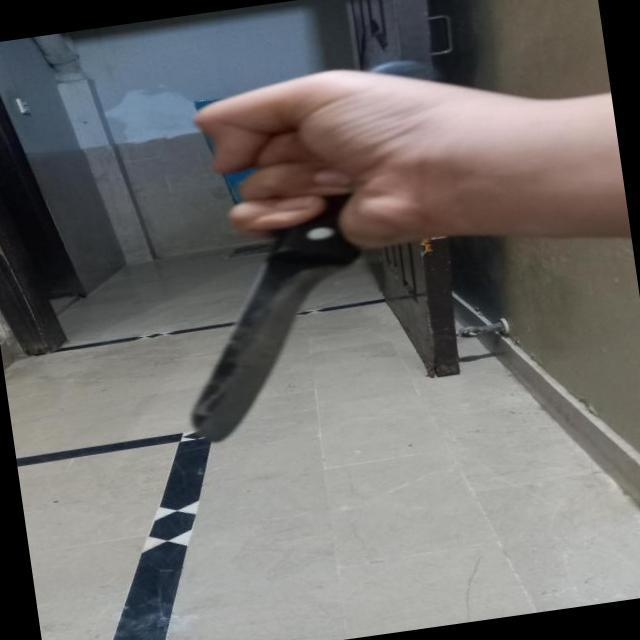Knife: (125, 52, 494, 450)
